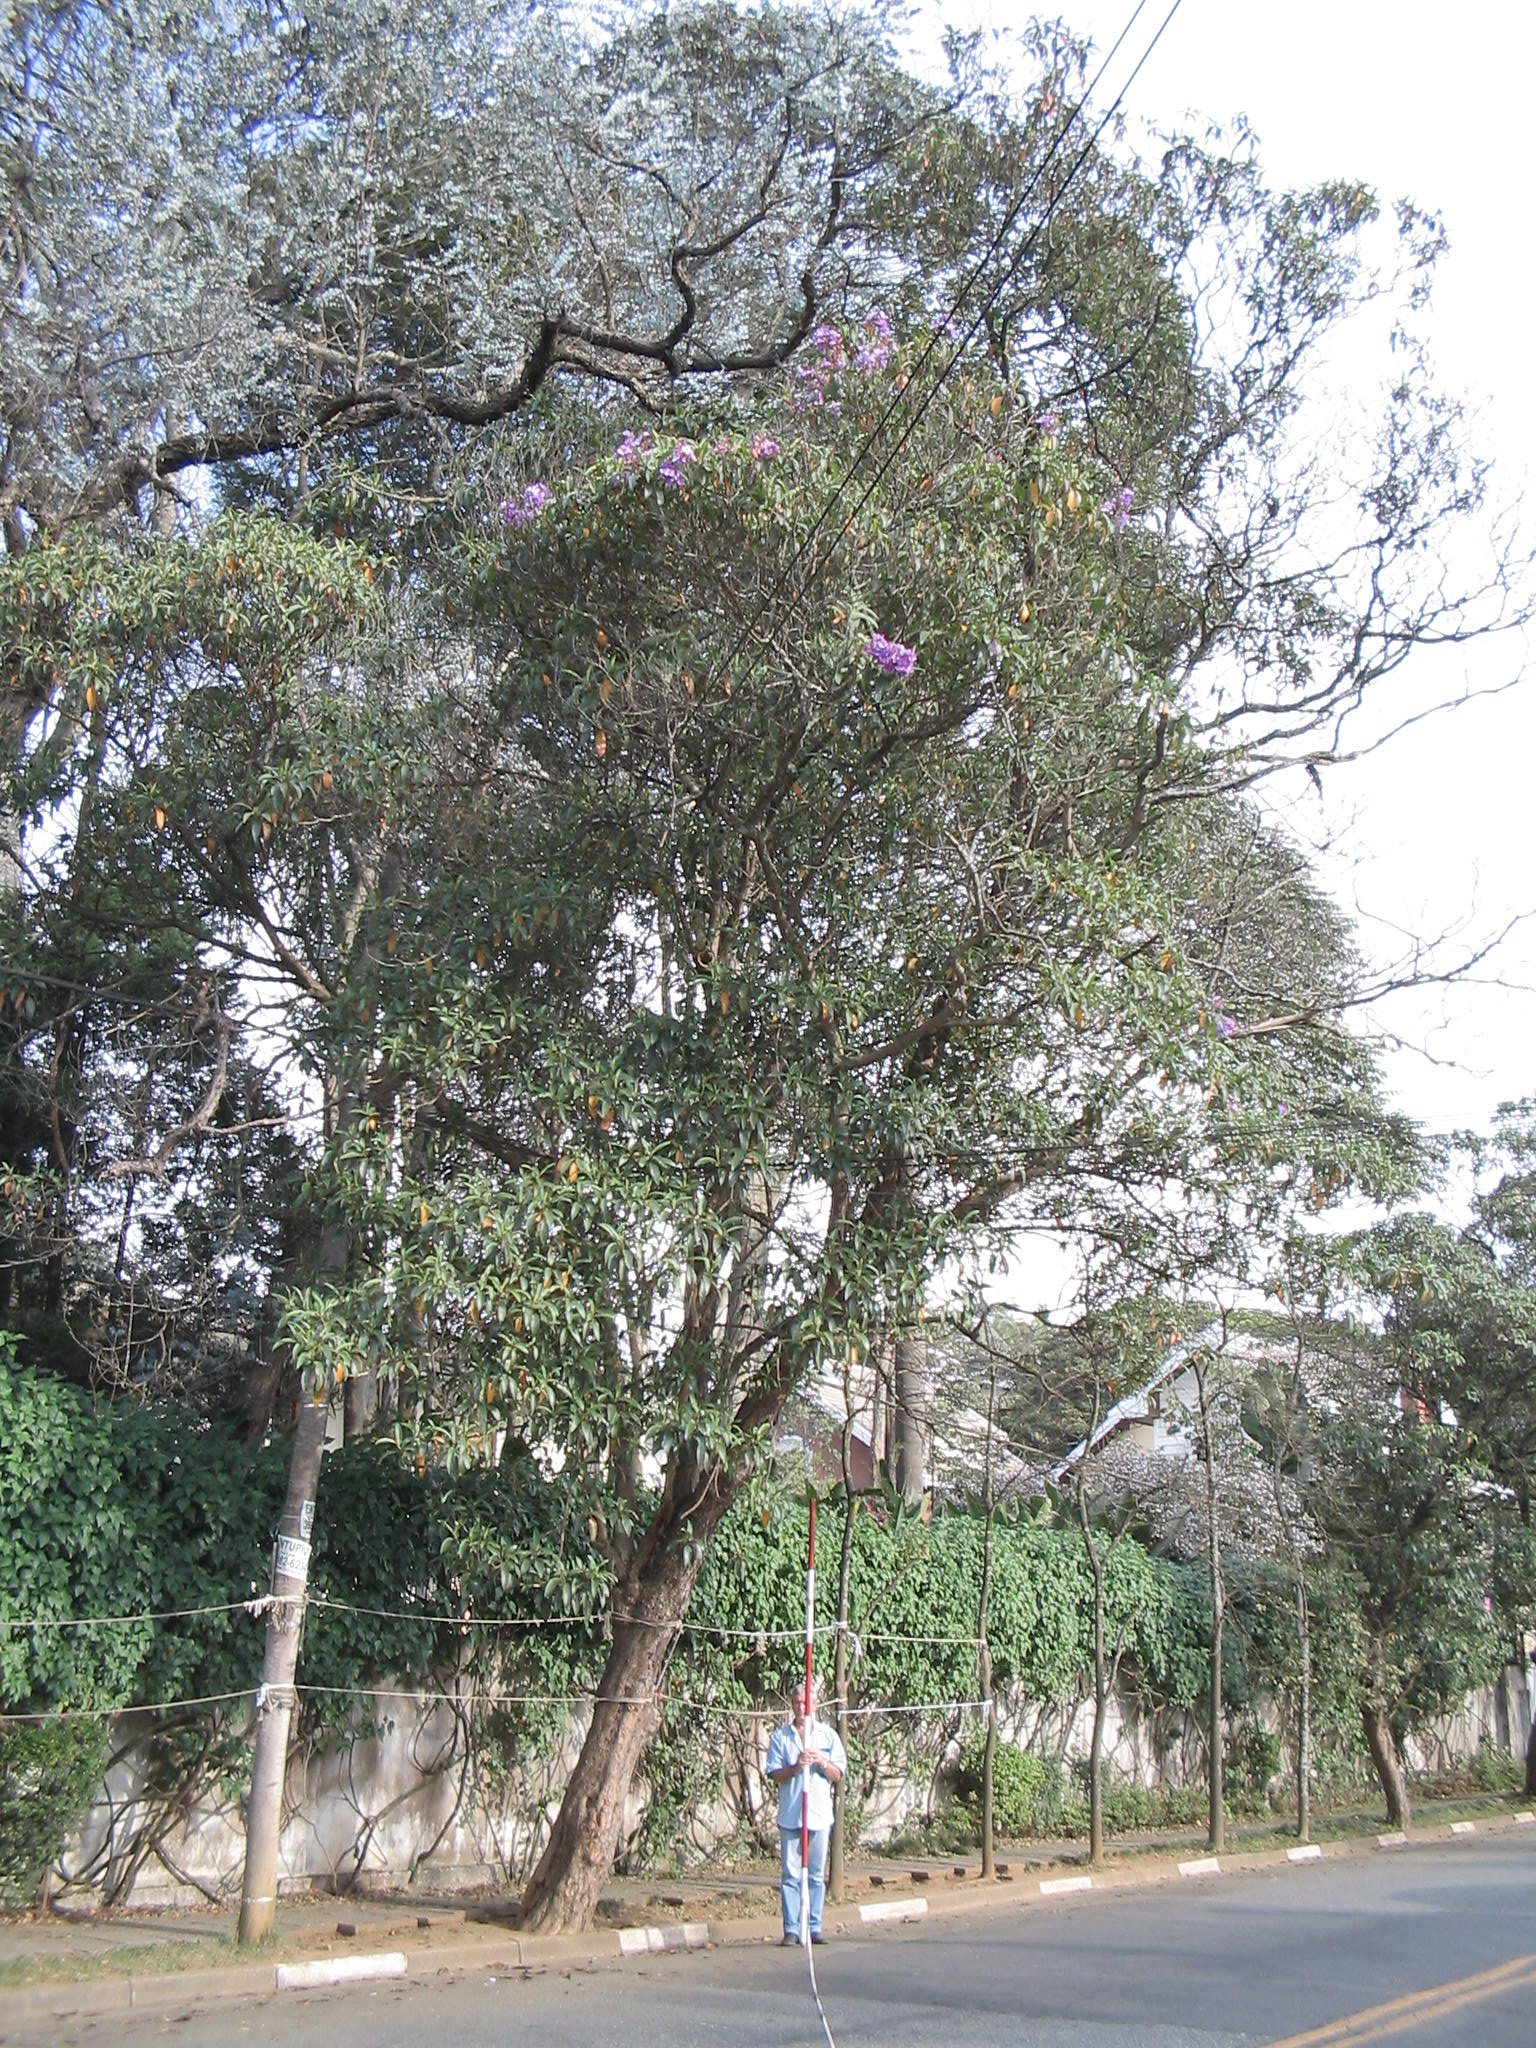crown: (245, 339, 1447, 1546)
stem: (482, 1577, 728, 1932)
stick: (778, 1496, 837, 1940)
tree: (237, 332, 1447, 1935)
